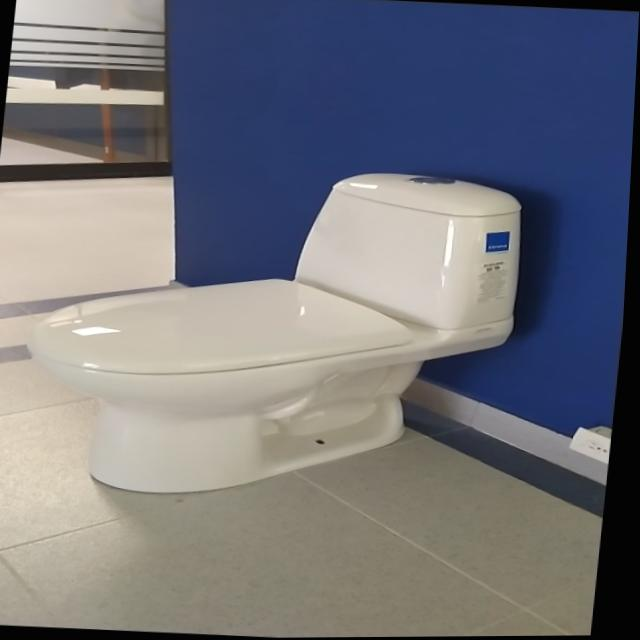toilet: (14, 154, 533, 513)
